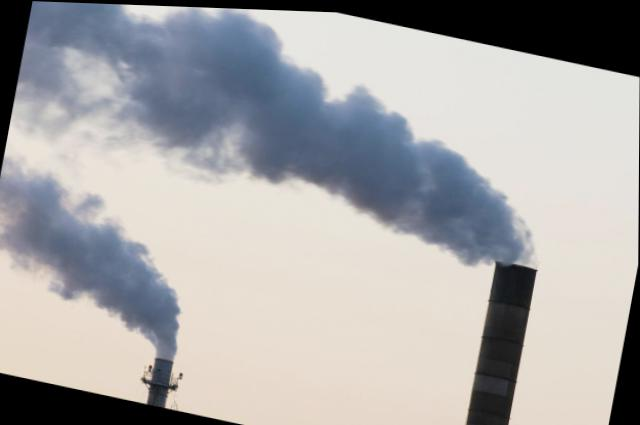smoke: (163, 5, 261, 157), (15, 0, 120, 122), (98, 3, 187, 140), (236, 50, 323, 177), (302, 84, 384, 202), (408, 142, 482, 249), (356, 119, 428, 225), (0, 156, 61, 272), (36, 193, 98, 301), (463, 183, 532, 260), (74, 229, 134, 306), (116, 269, 168, 336), (152, 304, 186, 355)
